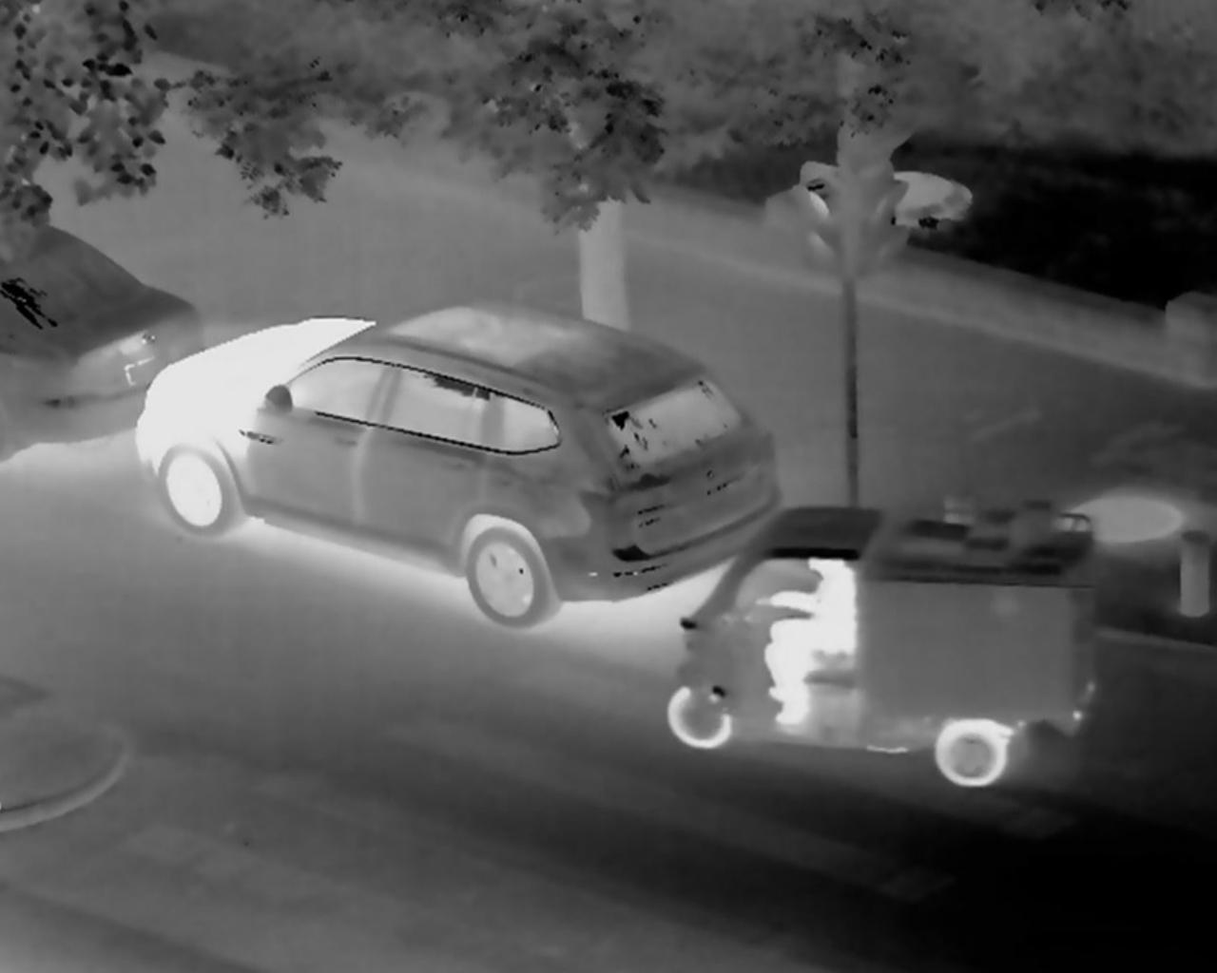person: (763, 552, 861, 740)
